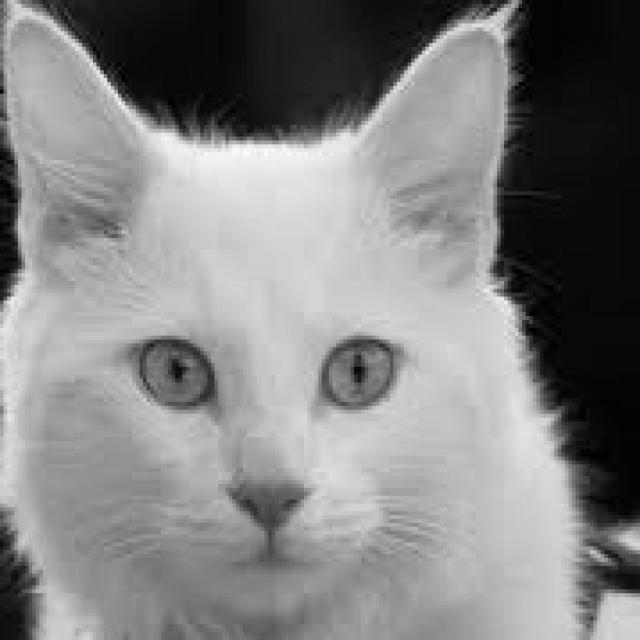van: (0, 0, 540, 628)
